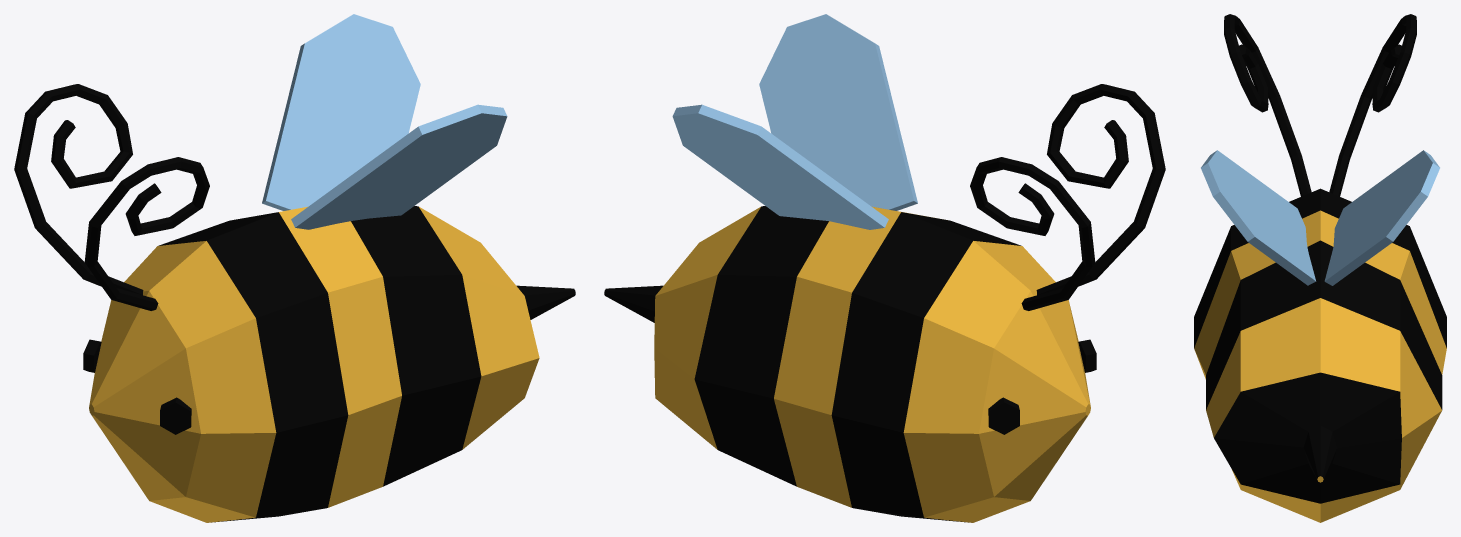
The model's file is Bee.fbx.
The picture shows the model from 3 angles, left to right: view 1: azimuth 30°, elevation 25°; view 2: azimuth 150°, elevation 25°; view 3: azimuth 270°, elevation 25°; orthographic projection. The views are drawn at different scales.
Visible parts, largest first — view 1: Cylinder.001, Plane, Vert, Cylinder.002; view 2: Cylinder.001, Plane, Vert, Cylinder.002; view 3: Cylinder.001, Plane, Vert.
Part boxes in pixels (x1,y1,x2,y2): Cylinder.001: [89, 206, 575, 522]; Plane: [262, 14, 507, 229]; Vert: [14, 84, 209, 310]; Cylinder.002: [83, 339, 191, 434]; Cylinder.001: [604, 206, 1090, 522]; Plane: [672, 14, 917, 229]; Vert: [970, 84, 1165, 310]; Cylinder.002: [988, 339, 1096, 434]; Cylinder.001: [1194, 188, 1446, 522]; Plane: [1201, 150, 1439, 285]; Vert: [1224, 14, 1416, 196].
Size of the model in its own units: 1195 by 948 by 553.
